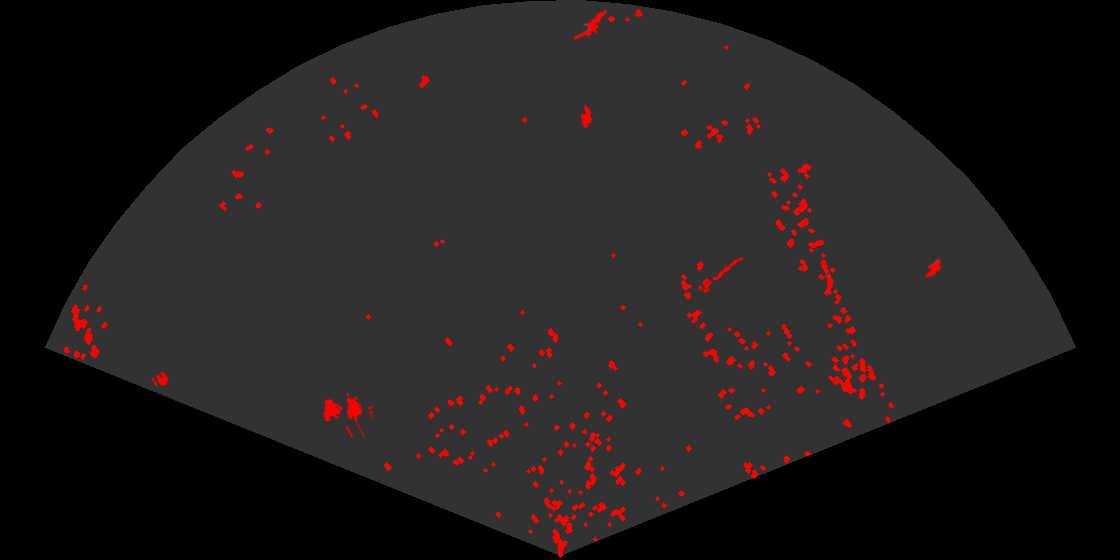AUV: (923, 257, 943, 280), (579, 103, 594, 130)
ball: (150, 370, 170, 388)
cage: (321, 391, 373, 437)
chain: (697, 255, 745, 292)
frogman: (574, 7, 614, 41)
